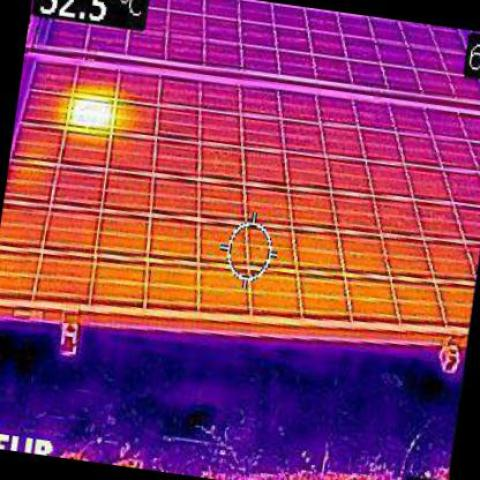fault: (73, 99, 106, 126)
